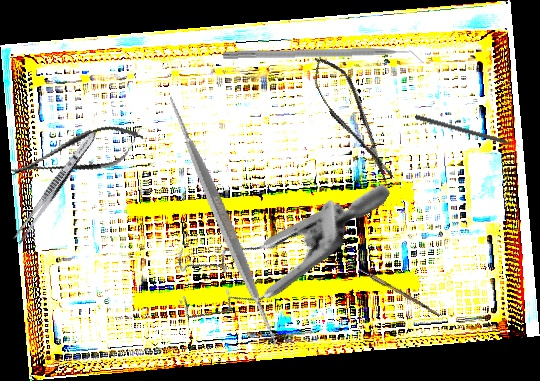Chopper: (222, 47, 425, 70)
Dressing Forceps: (11, 128, 100, 246)
Micro Scissor: (304, 48, 402, 192), (5, 117, 149, 191)
Pusher: (414, 114, 527, 152)
Spatula Surgical: (84, 83, 362, 359)
Speculum: (151, 112, 393, 375)
Surgical Spoon: (344, 260, 442, 317)
